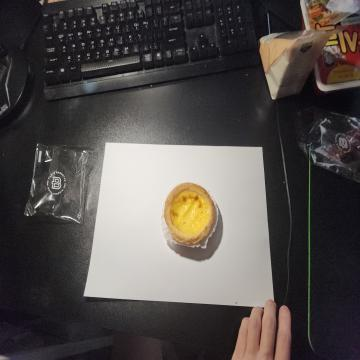EggTart: (163, 182, 216, 243)
